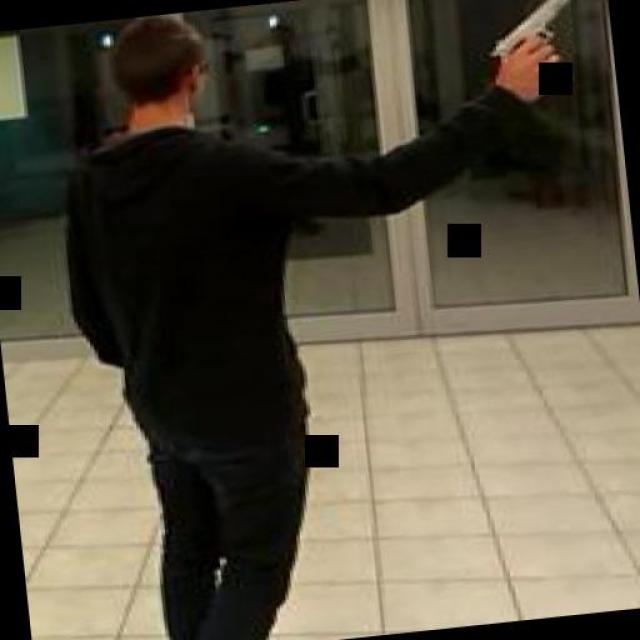gun: (476, 0, 571, 82)
